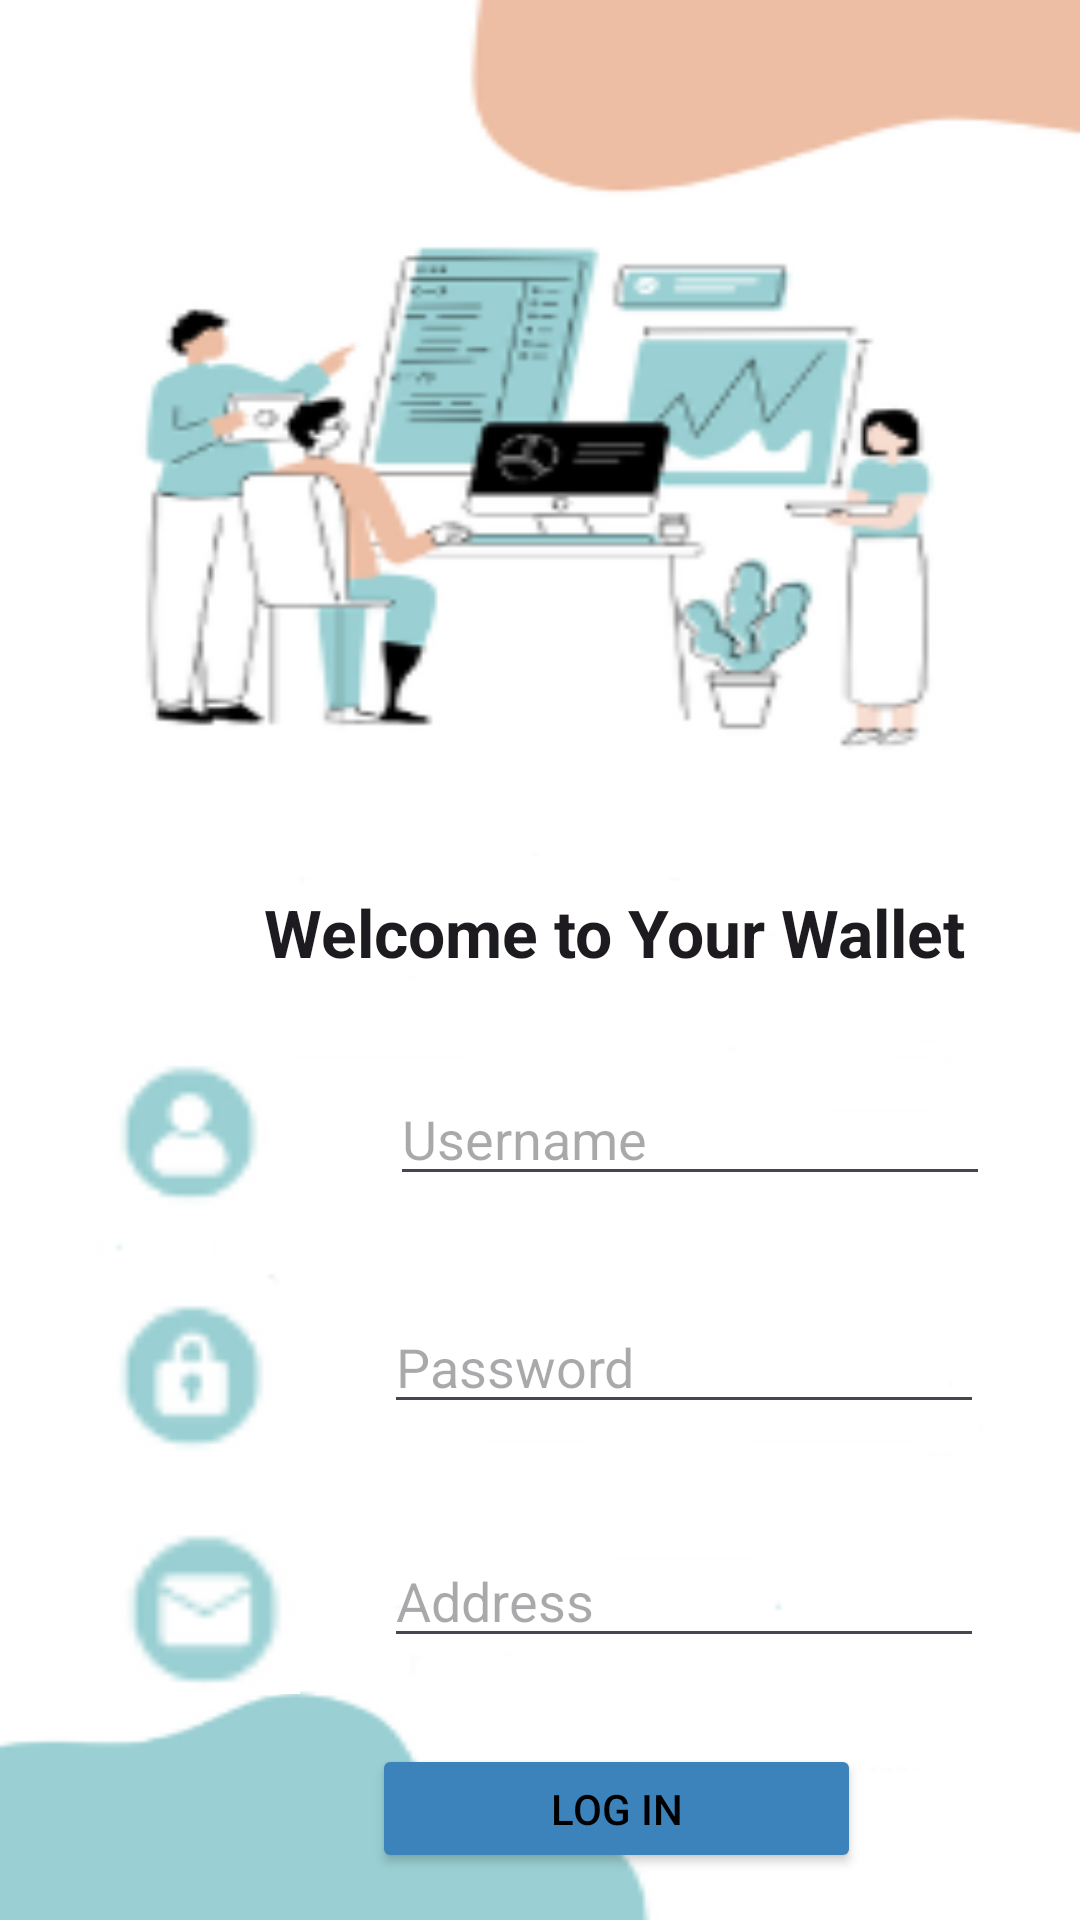

Icons on this 1080 × 1920 Android screen, each with the point to tap as (x,y):
email: (205,1609)
